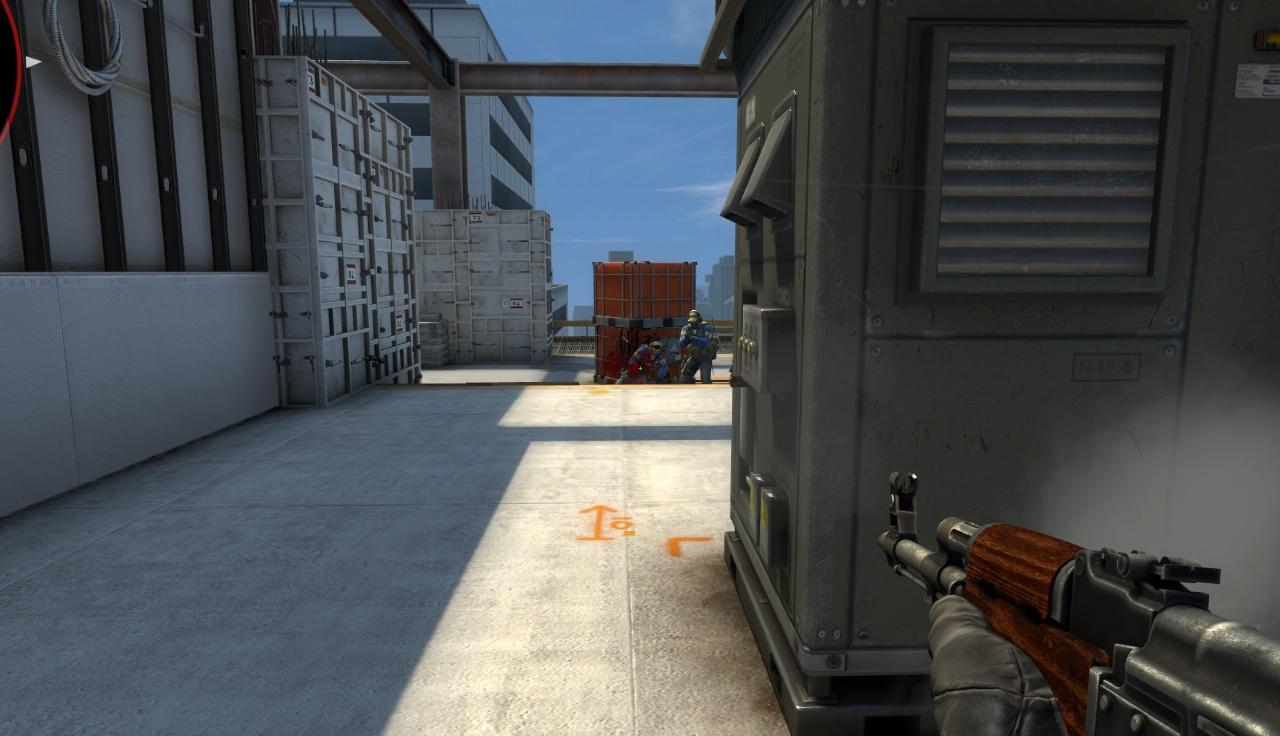ct: (678, 309, 717, 384)
cthead: (687, 309, 702, 329)
rifle: (868, 487, 1280, 734)
